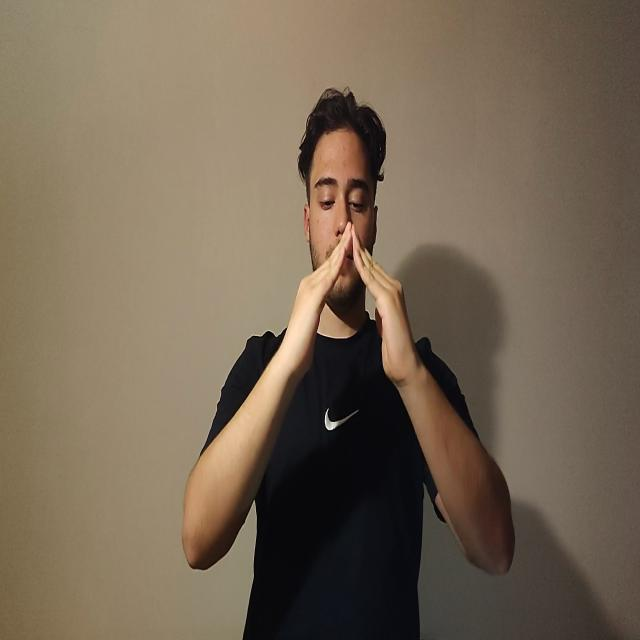house: (282, 224, 417, 391)
